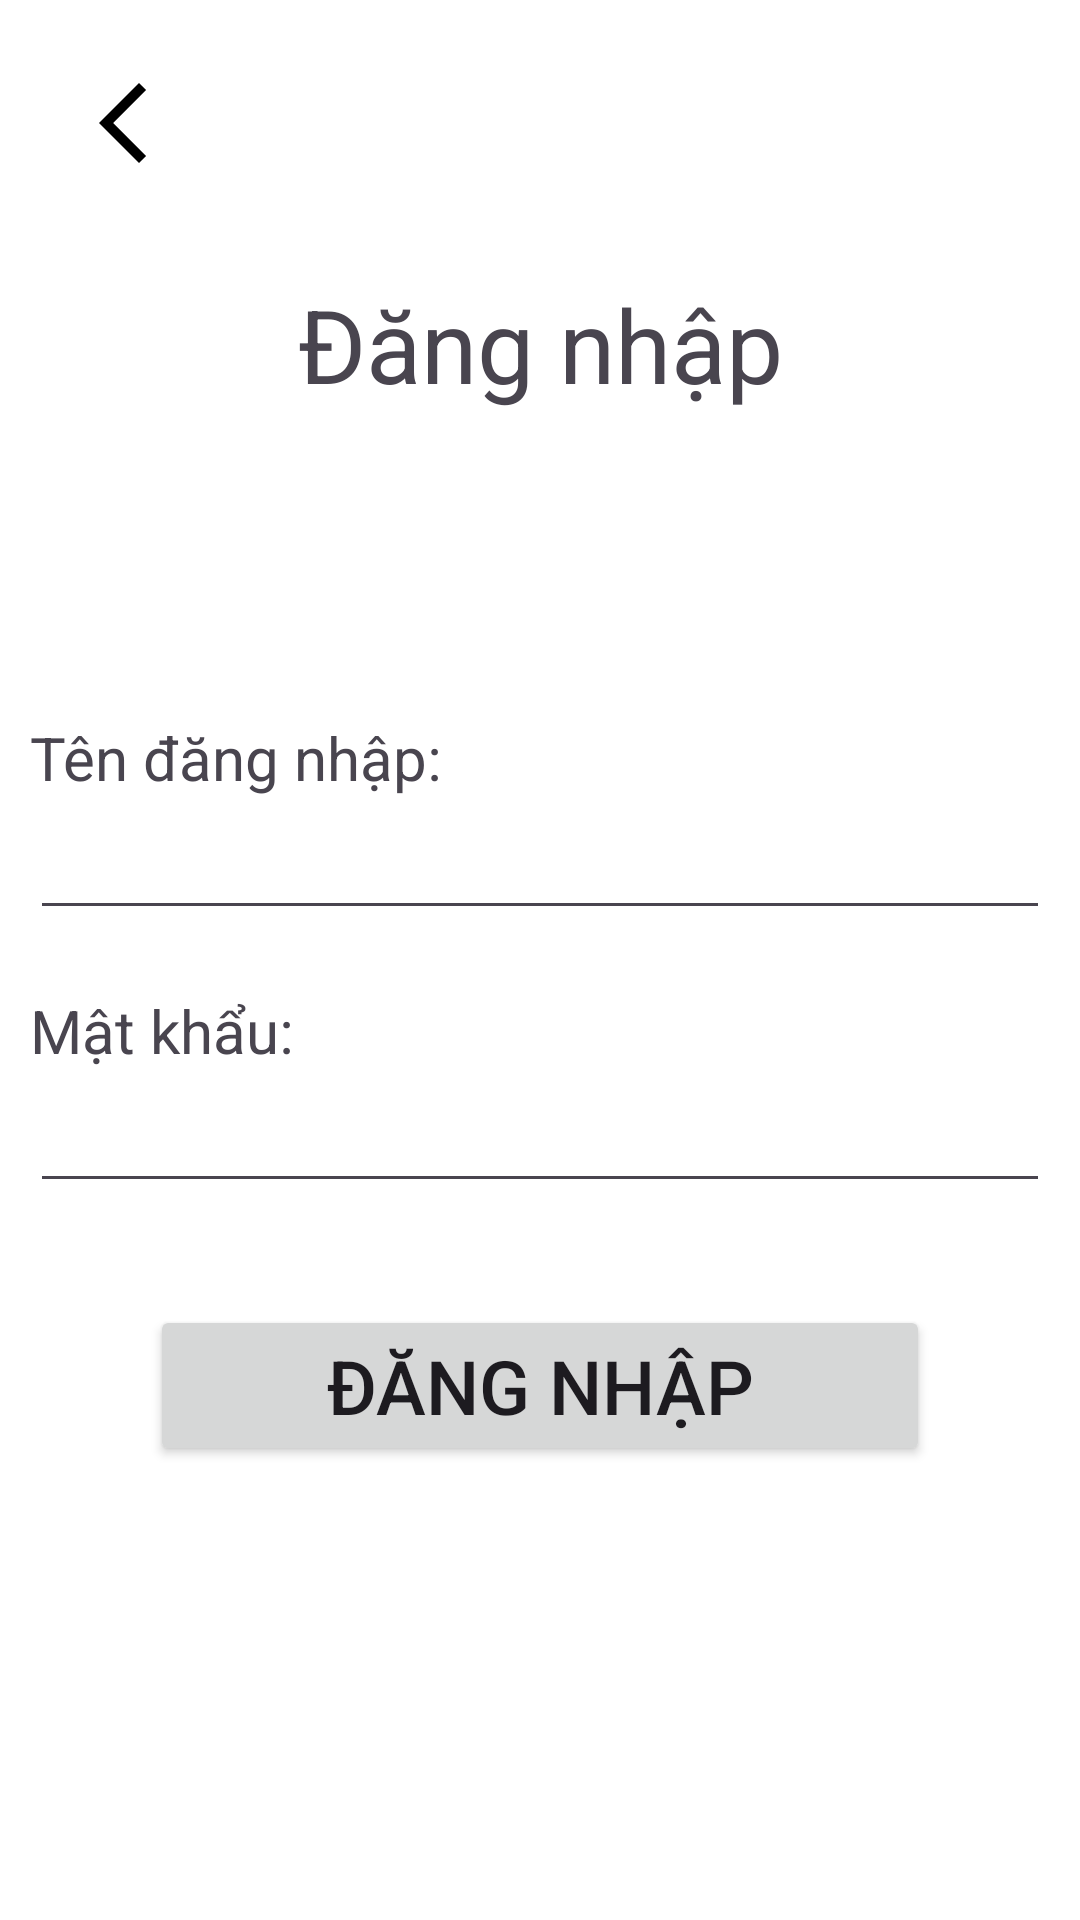

Named icons in this screenshot (1080x1920) and their bounding boxes, (x1, y1, x2, y2):
arrow back: (99, 83, 146, 163)
